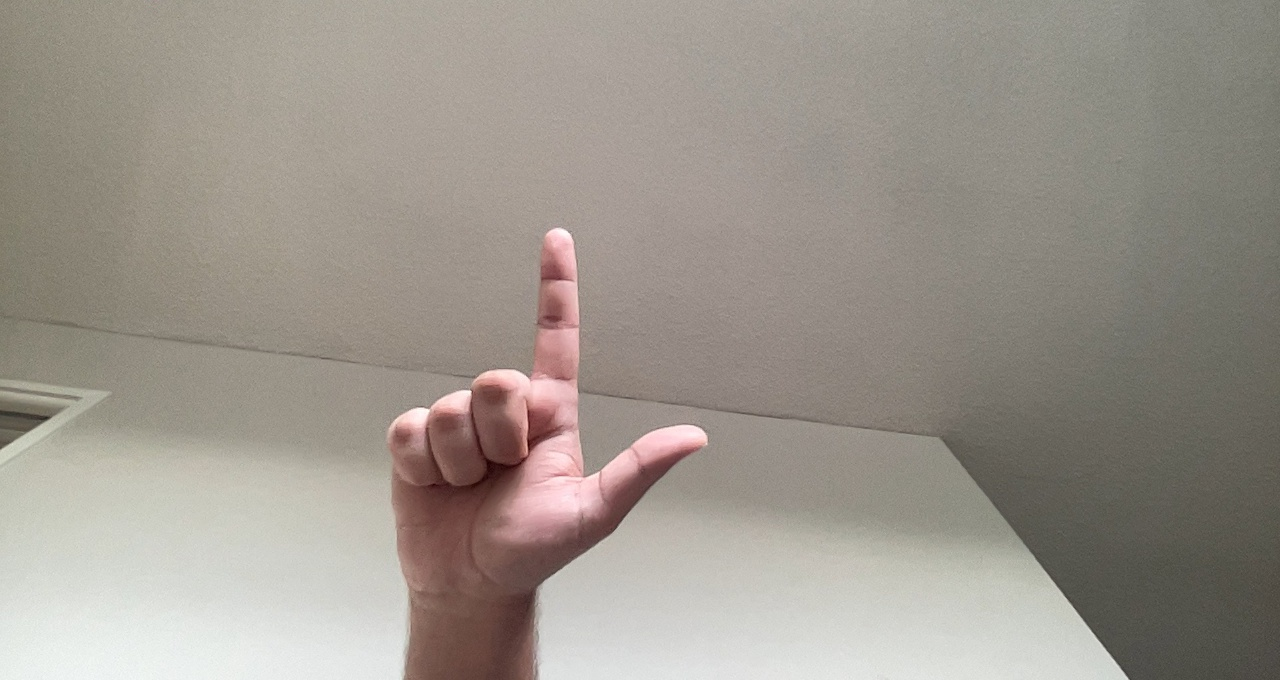L: (381, 219, 714, 622)
